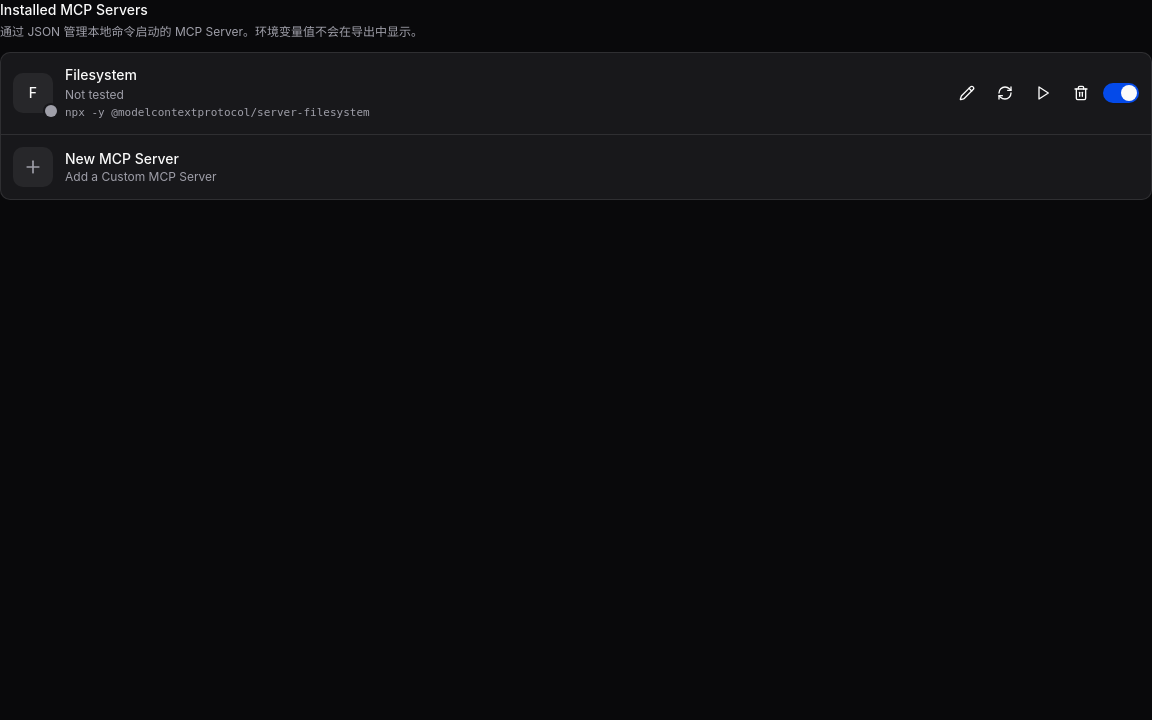
Scenario: McpServersTab › 点击 New MCP Server 打开包含已有 MCP 的完整 JSON 弹窗
Click the text "New MCP Server". click: (122, 158)
box: [65,150,179,166]
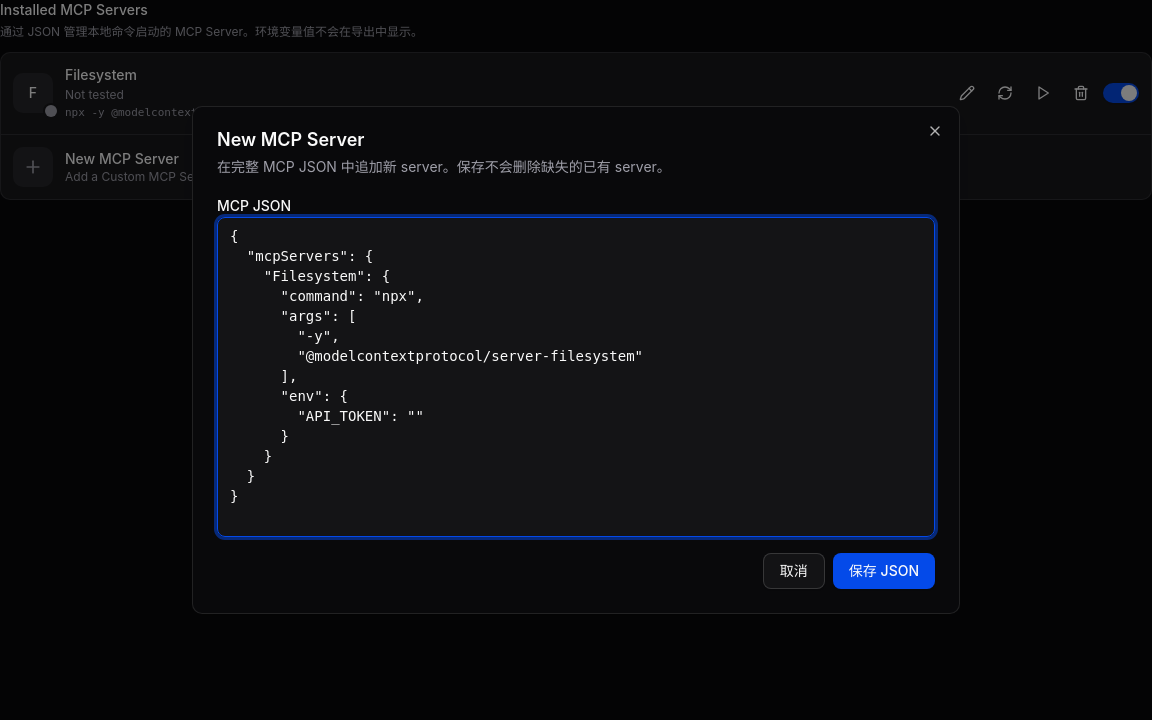
Expected: the heading "New MCP Server" is shown, [217,129,364,150]
